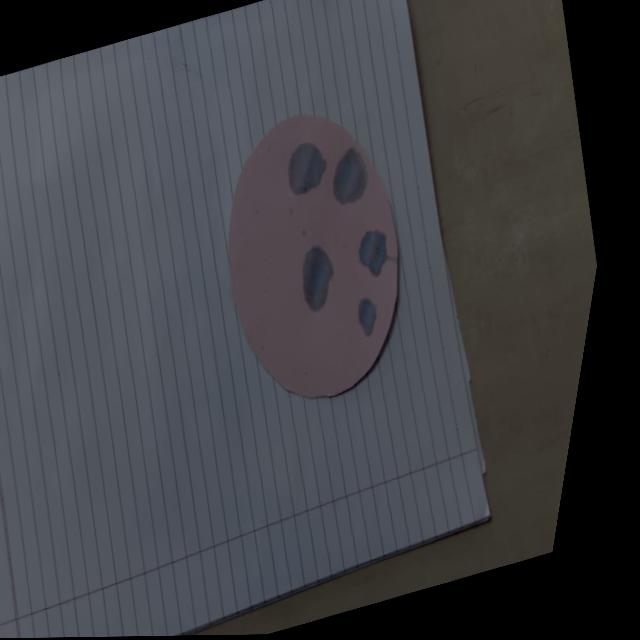BlueColor: (288, 142, 325, 194), (302, 246, 332, 310), (333, 147, 367, 203), (359, 230, 385, 274), (358, 298, 376, 335)
